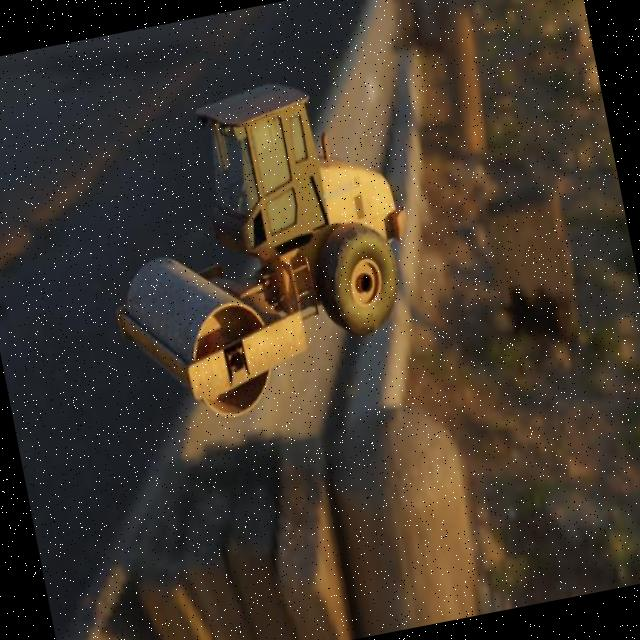Roller: (79, 62, 438, 436)
